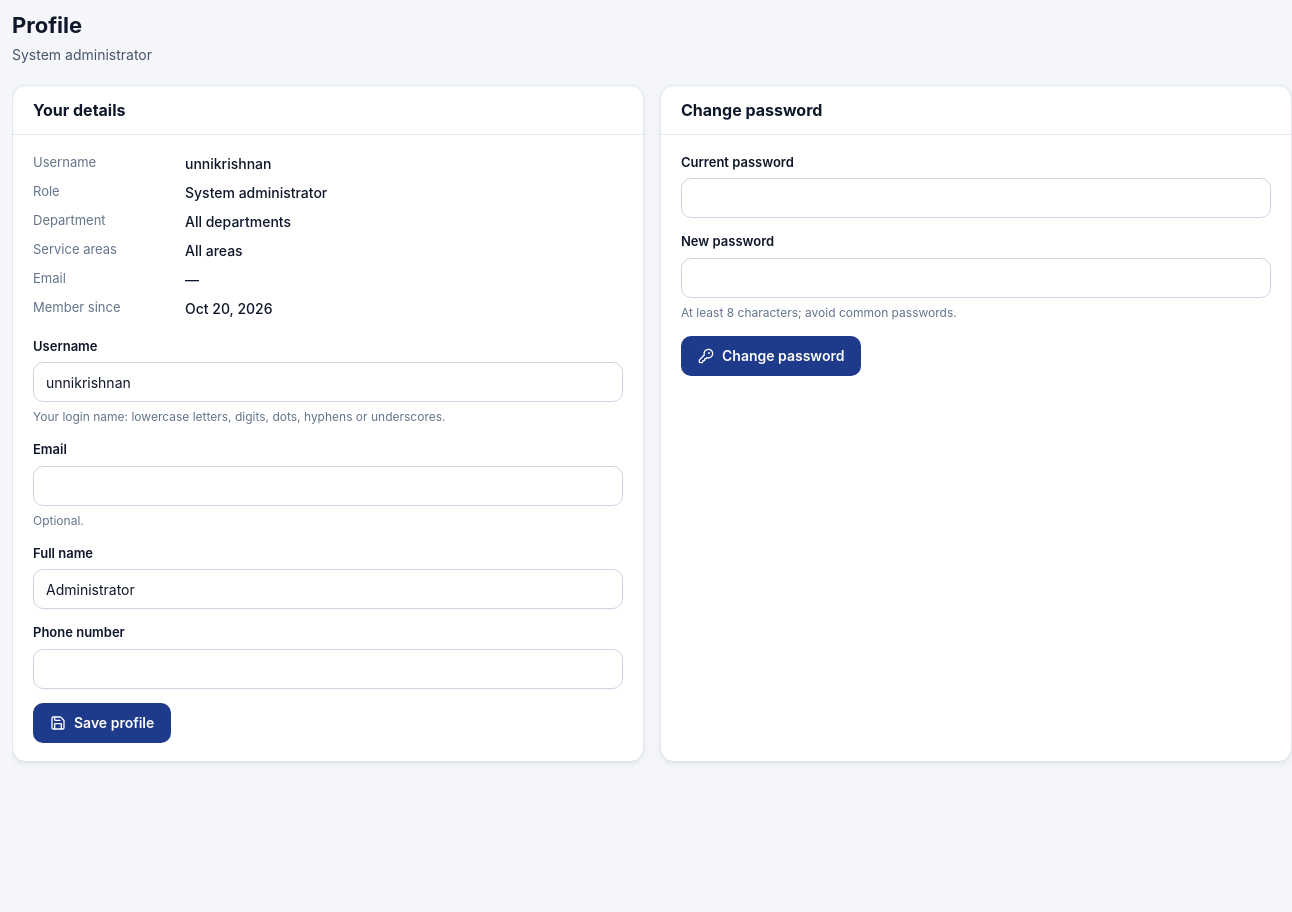
Scenario: ProfilePage username and email editing › validates the username locally and shows server errors on the field
This screenshot has width=1292, height=912.
Replace the text in the field labelled "Username" with "a b" at (328, 382), box [33,362,623,402]
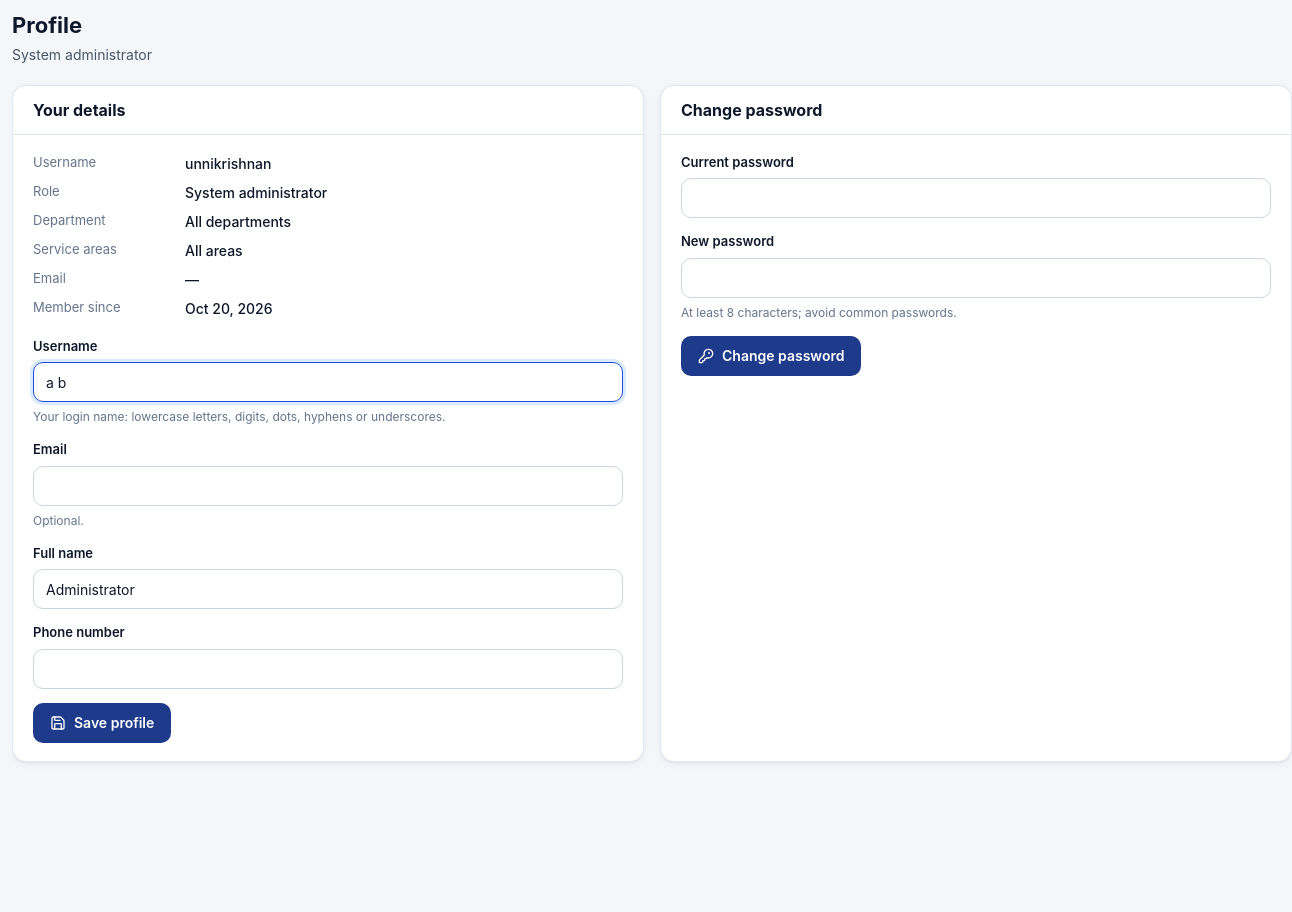
Click the button "Save profile" at (102, 722), box [33,702,171,742]
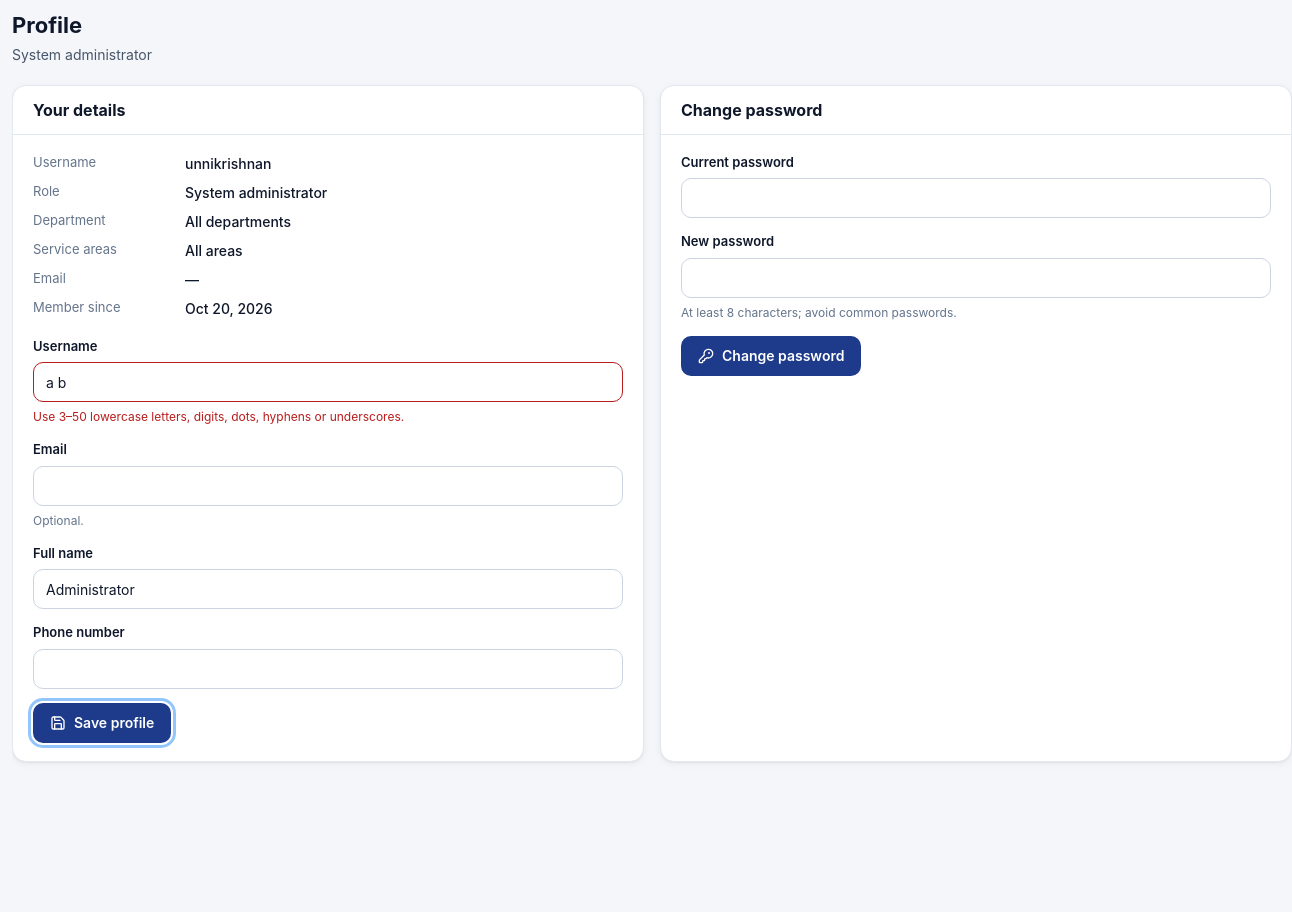
Expected: the text "Use 3–50 lowercase letters, digits, dots, hyphens or underscores." is shown, [33,409,404,424]
Replace the text in the field labelled "Username" with "supervisor" at (328, 382), box [33,362,623,402]
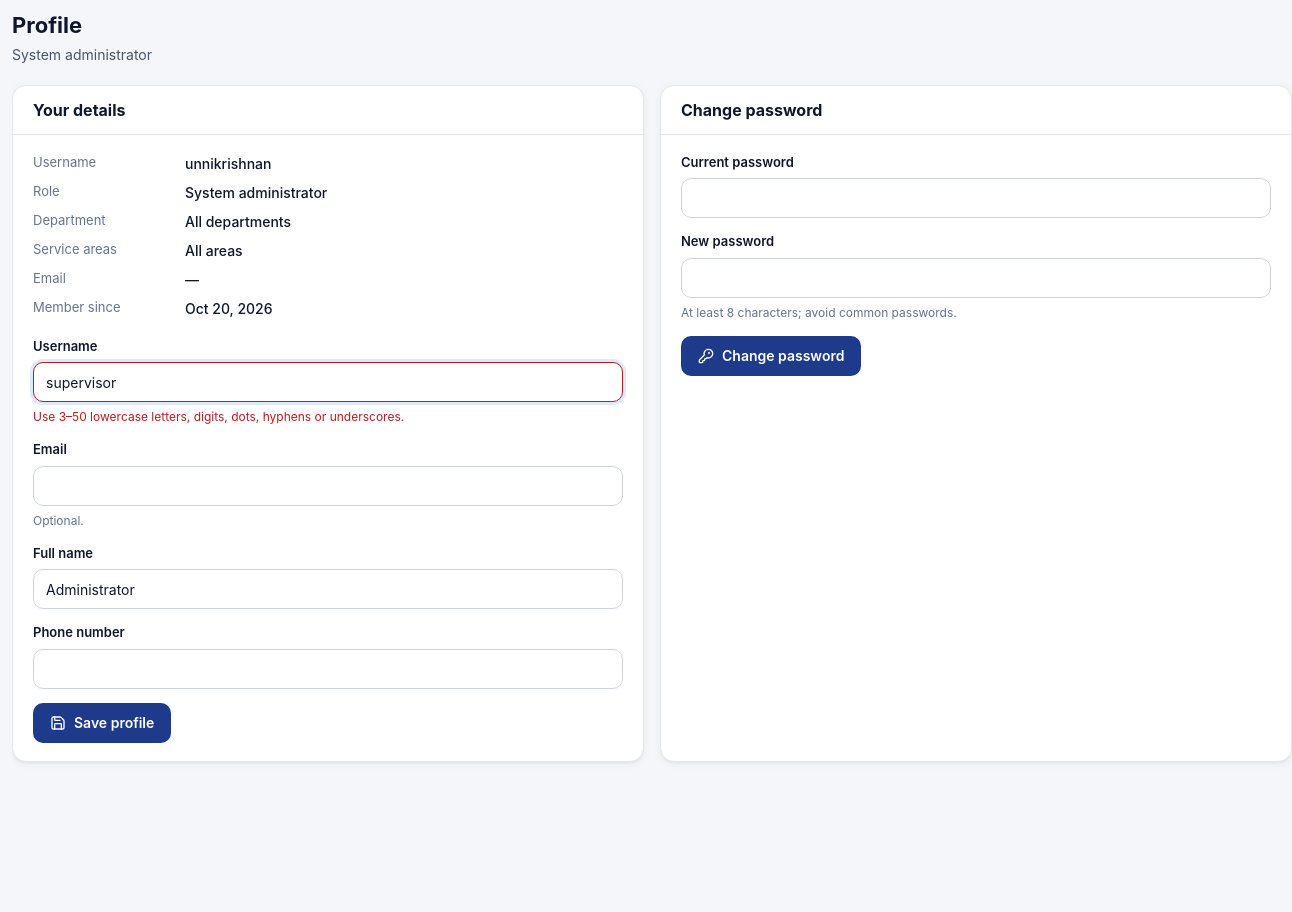
Click the button "Save profile" at (102, 722), box [33,702,171,742]
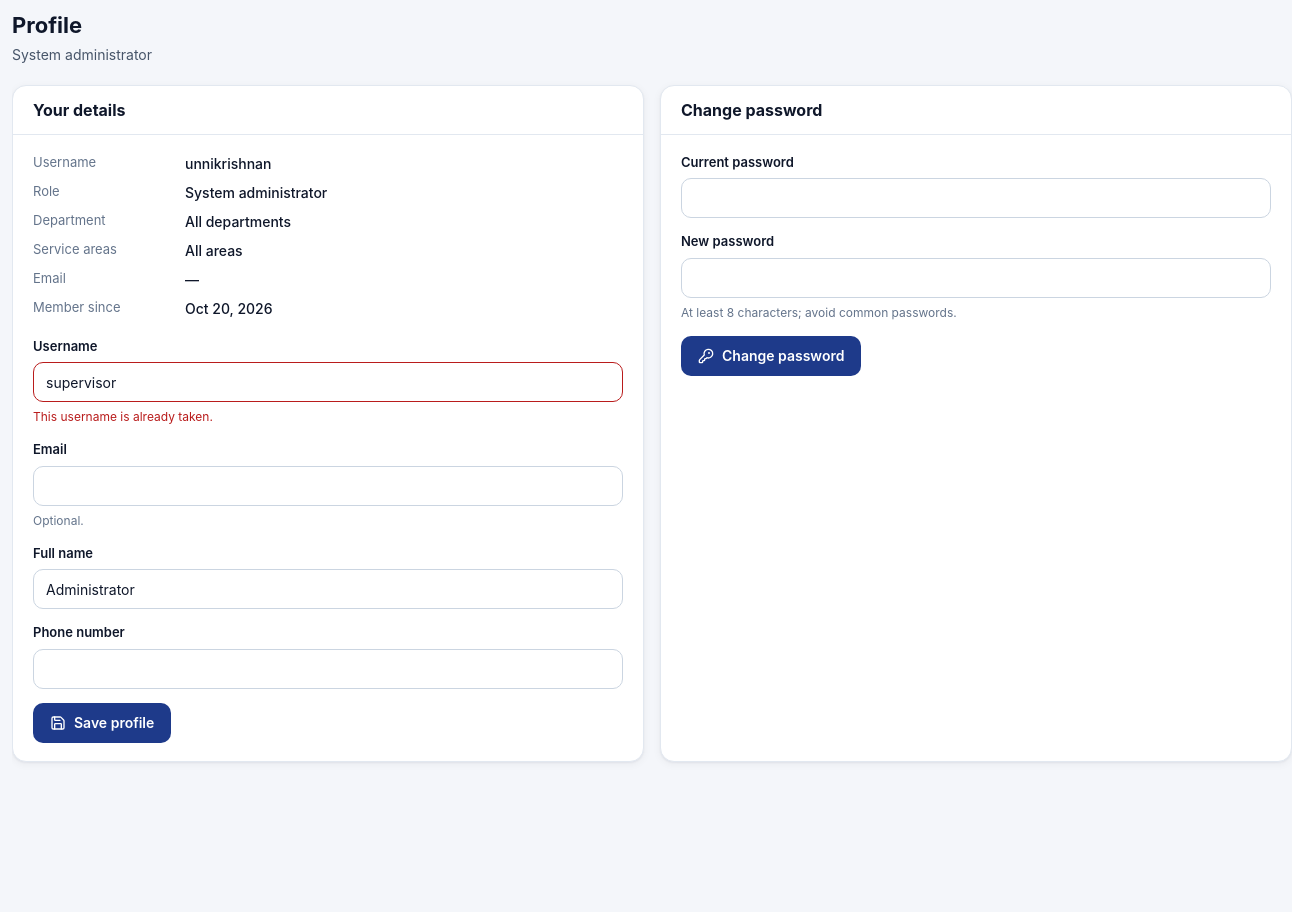
Expected: the text "This username is already taken." is shown, [33,409,213,424]
